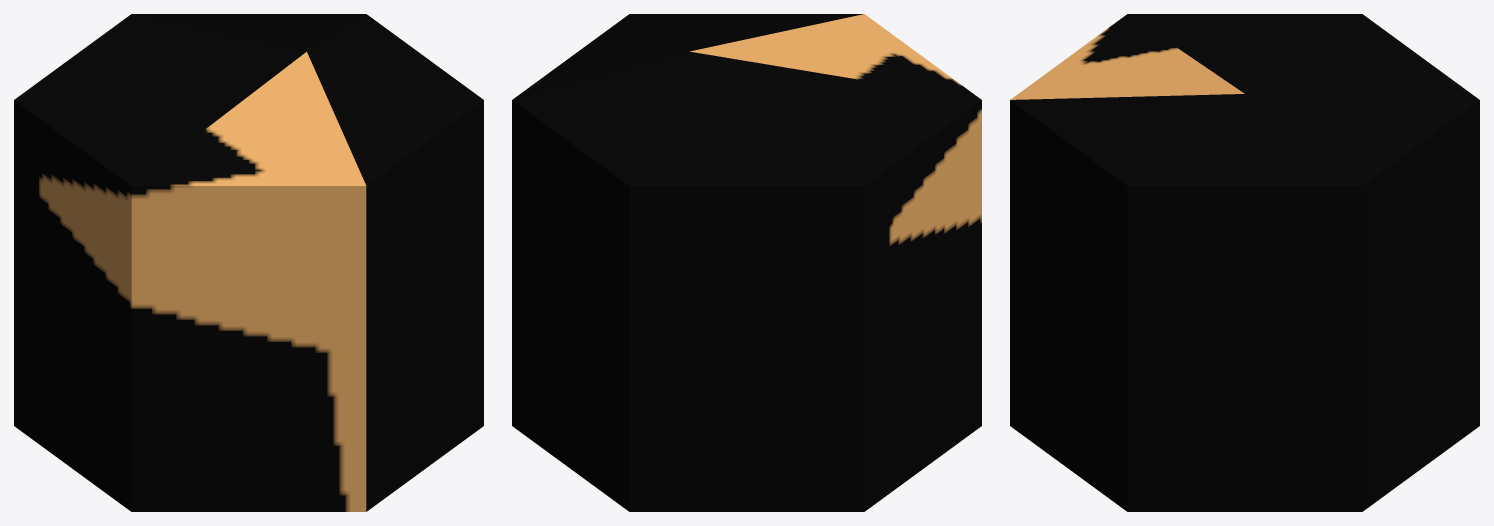
File: liquid.obj
3 views of the same model, side by side, from view 1: azimuth 30°, elevation 25°; view 2: azimuth 150°, elevation 25°; view 3: azimuth 270°, elevation 25° (orthographic).
Parts seen in each view (by area): view 1: Circle.001; view 2: Circle.001; view 3: Circle.001.
Part boxes in pixels (bbox=[...]): Circle.001: bbox=[14, 14, 483, 511]; Circle.001: bbox=[512, 14, 981, 511]; Circle.001: bbox=[1010, 14, 1479, 511].
Bounding box in the file's own units: 1.51 × 1.48 × 1.75.
